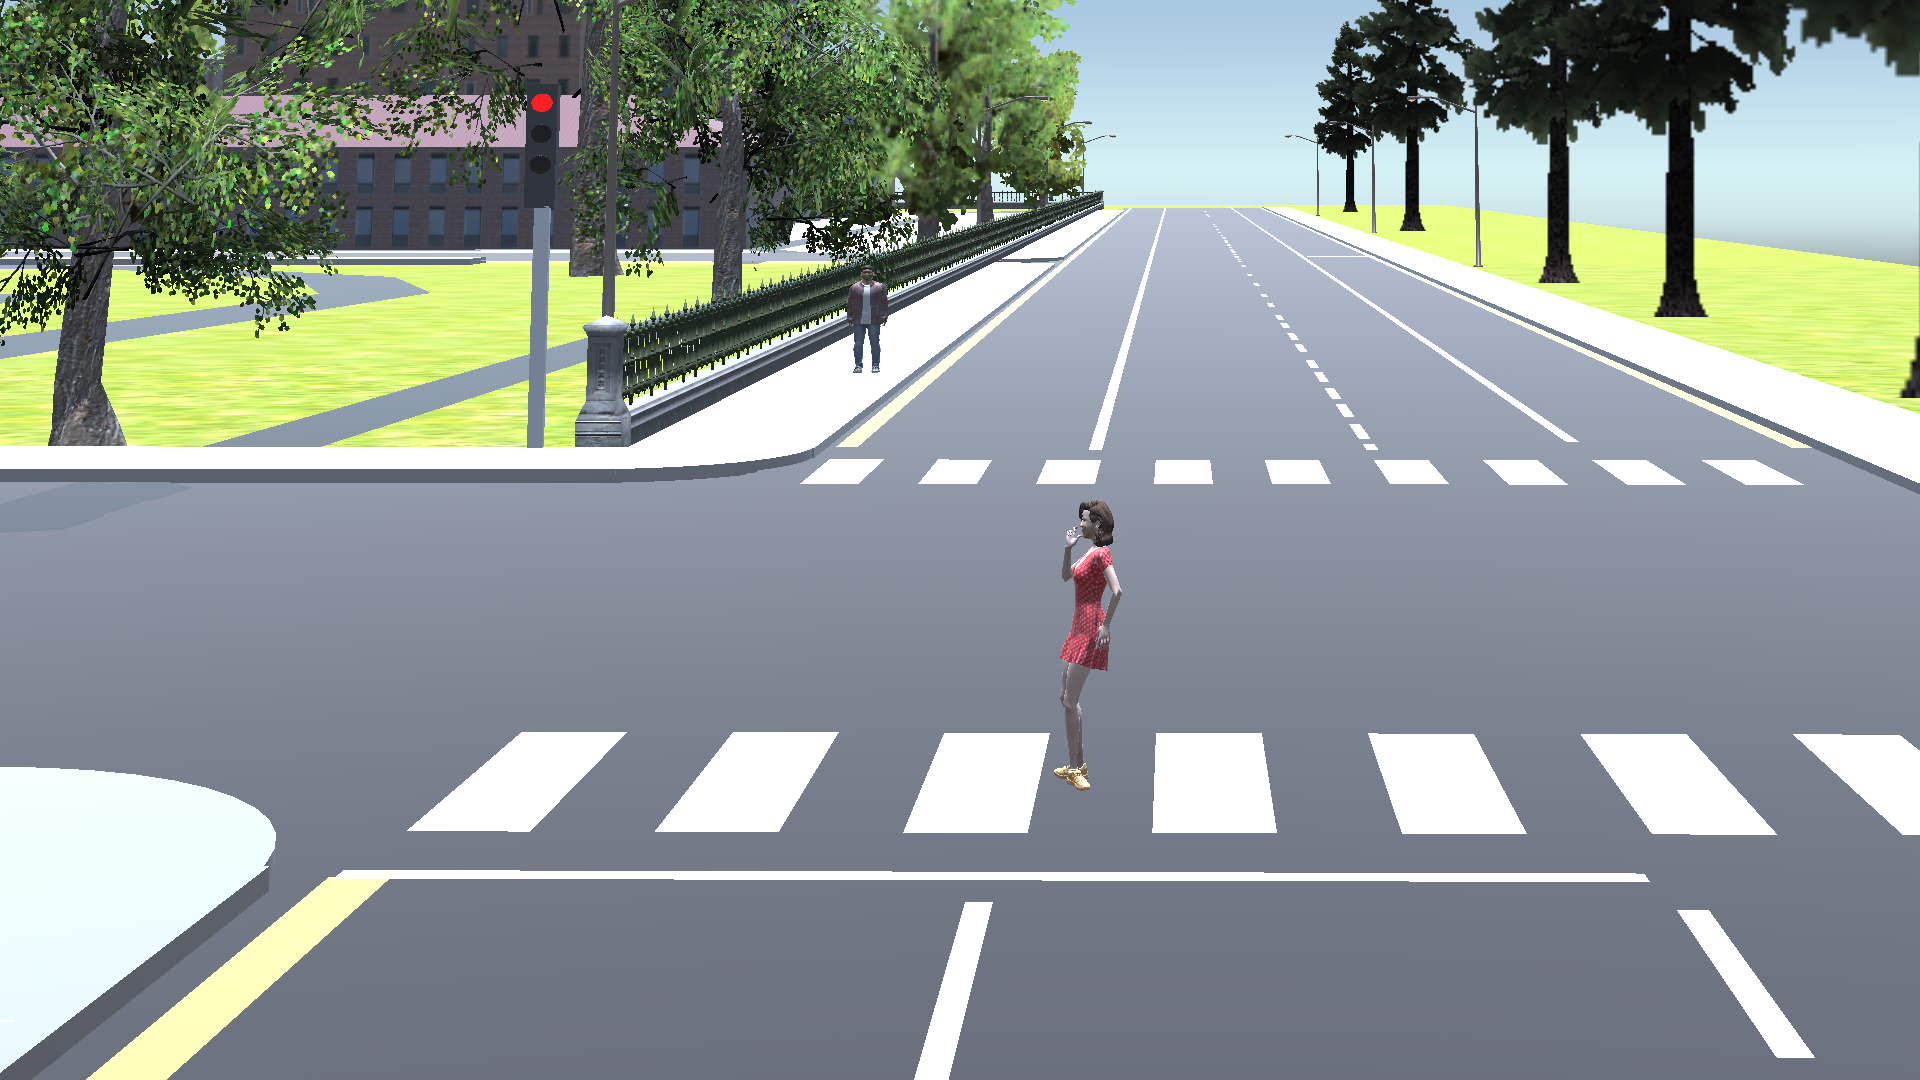pedestrian: (1045, 494, 1130, 794), (838, 260, 892, 387)
